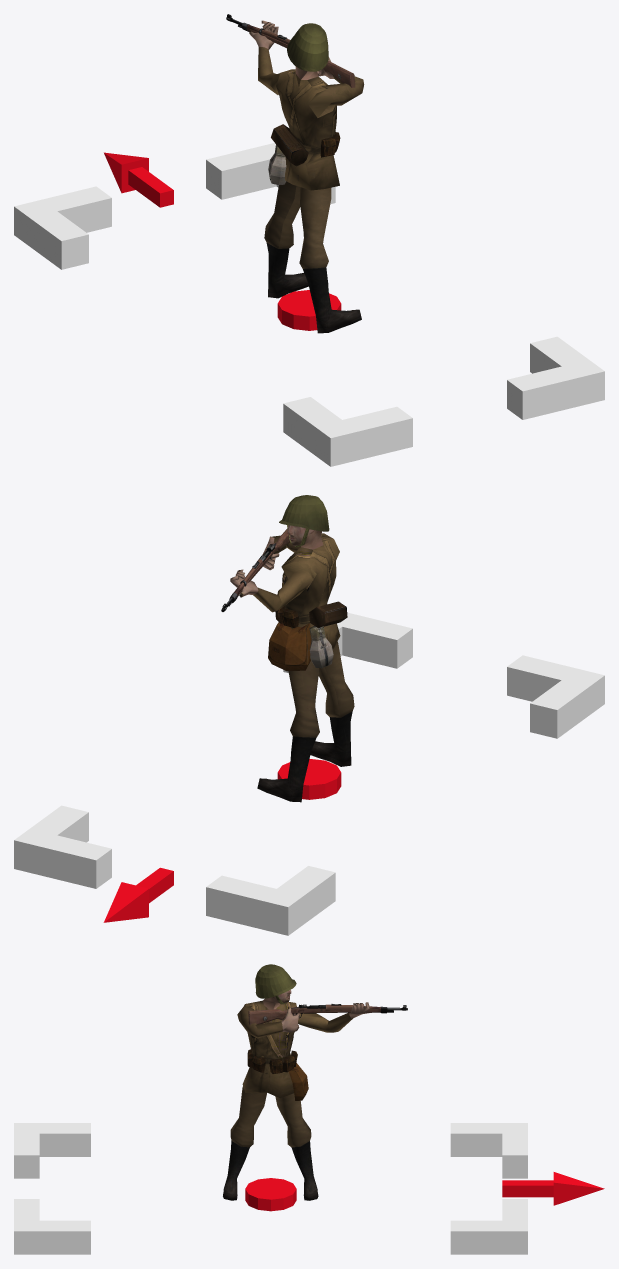
File: cf_sov_sn.obj
3 views of the same model, one above another, from view 1: azimuth 30°, elevation 25°; view 2: azimuth 150°, elevation 25°; view 3: azimuth 270°, elevation 25° (orthographic). The views are drawn at different scales.
Visible parts, largest first — view 1: i_frame_Cube.001, cat_Mesh.001, arrow_Cube, pointer_Cylinder; view 2: i_frame_Cube.001, cat_Mesh.001, arrow_Cube, pointer_Cylinder; view 3: i_frame_Cube.001, cat_Mesh.001, arrow_Cube, pointer_Cylinder.
Boxes of the visible parts, x1,y1,x2,y2 form: i_frame_Cube.001: [14, 143, 604, 466]; cat_Mesh.001: [226, 14, 364, 333]; arrow_Cube: [104, 152, 173, 207]; pointer_Cylinder: [277, 290, 341, 330]; i_frame_Cube.001: [14, 612, 604, 935]; cat_Mesh.001: [221, 495, 354, 802]; arrow_Cube: [103, 867, 173, 922]; pointer_Cylinder: [277, 759, 341, 799]; i_frame_Cube.001: [14, 1123, 527, 1254]; cat_Mesh.001: [223, 964, 407, 1200]; arrow_Cube: [502, 1172, 604, 1205]; pointer_Cylinder: [245, 1178, 296, 1211].
Bounding box in the file's own units: 2 × 2.02 × 4.6.
2 materials, 2 textured.
